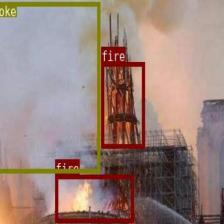fire: (55, 174, 133, 222), (101, 62, 144, 148)
smoke: (0, 2, 100, 172)
